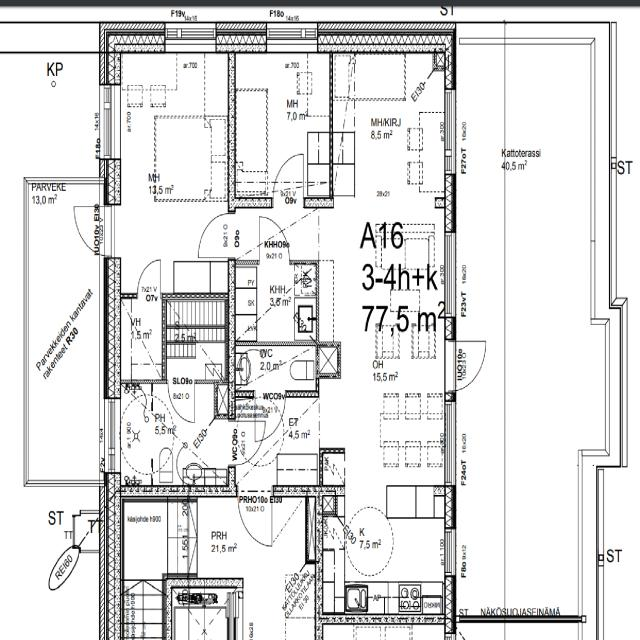door: (63, 205, 120, 257), (444, 340, 491, 392), (237, 485, 272, 547), (228, 421, 264, 465), (255, 390, 286, 441), (198, 214, 234, 257), (273, 154, 302, 207), (259, 216, 289, 264), (168, 380, 195, 424), (137, 259, 161, 299)
